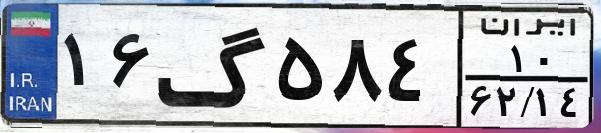0: (537, 27, 568, 80)
1: (57, 26, 110, 100), (508, 27, 537, 80), (535, 70, 560, 125)
2: (495, 70, 520, 125)
4: (385, 28, 445, 110), (560, 70, 590, 125)
5: (270, 28, 330, 110)
6: (110, 28, 156, 98), (470, 70, 495, 125)
8: (330, 28, 385, 110)
گ: (156, 12, 270, 120)
